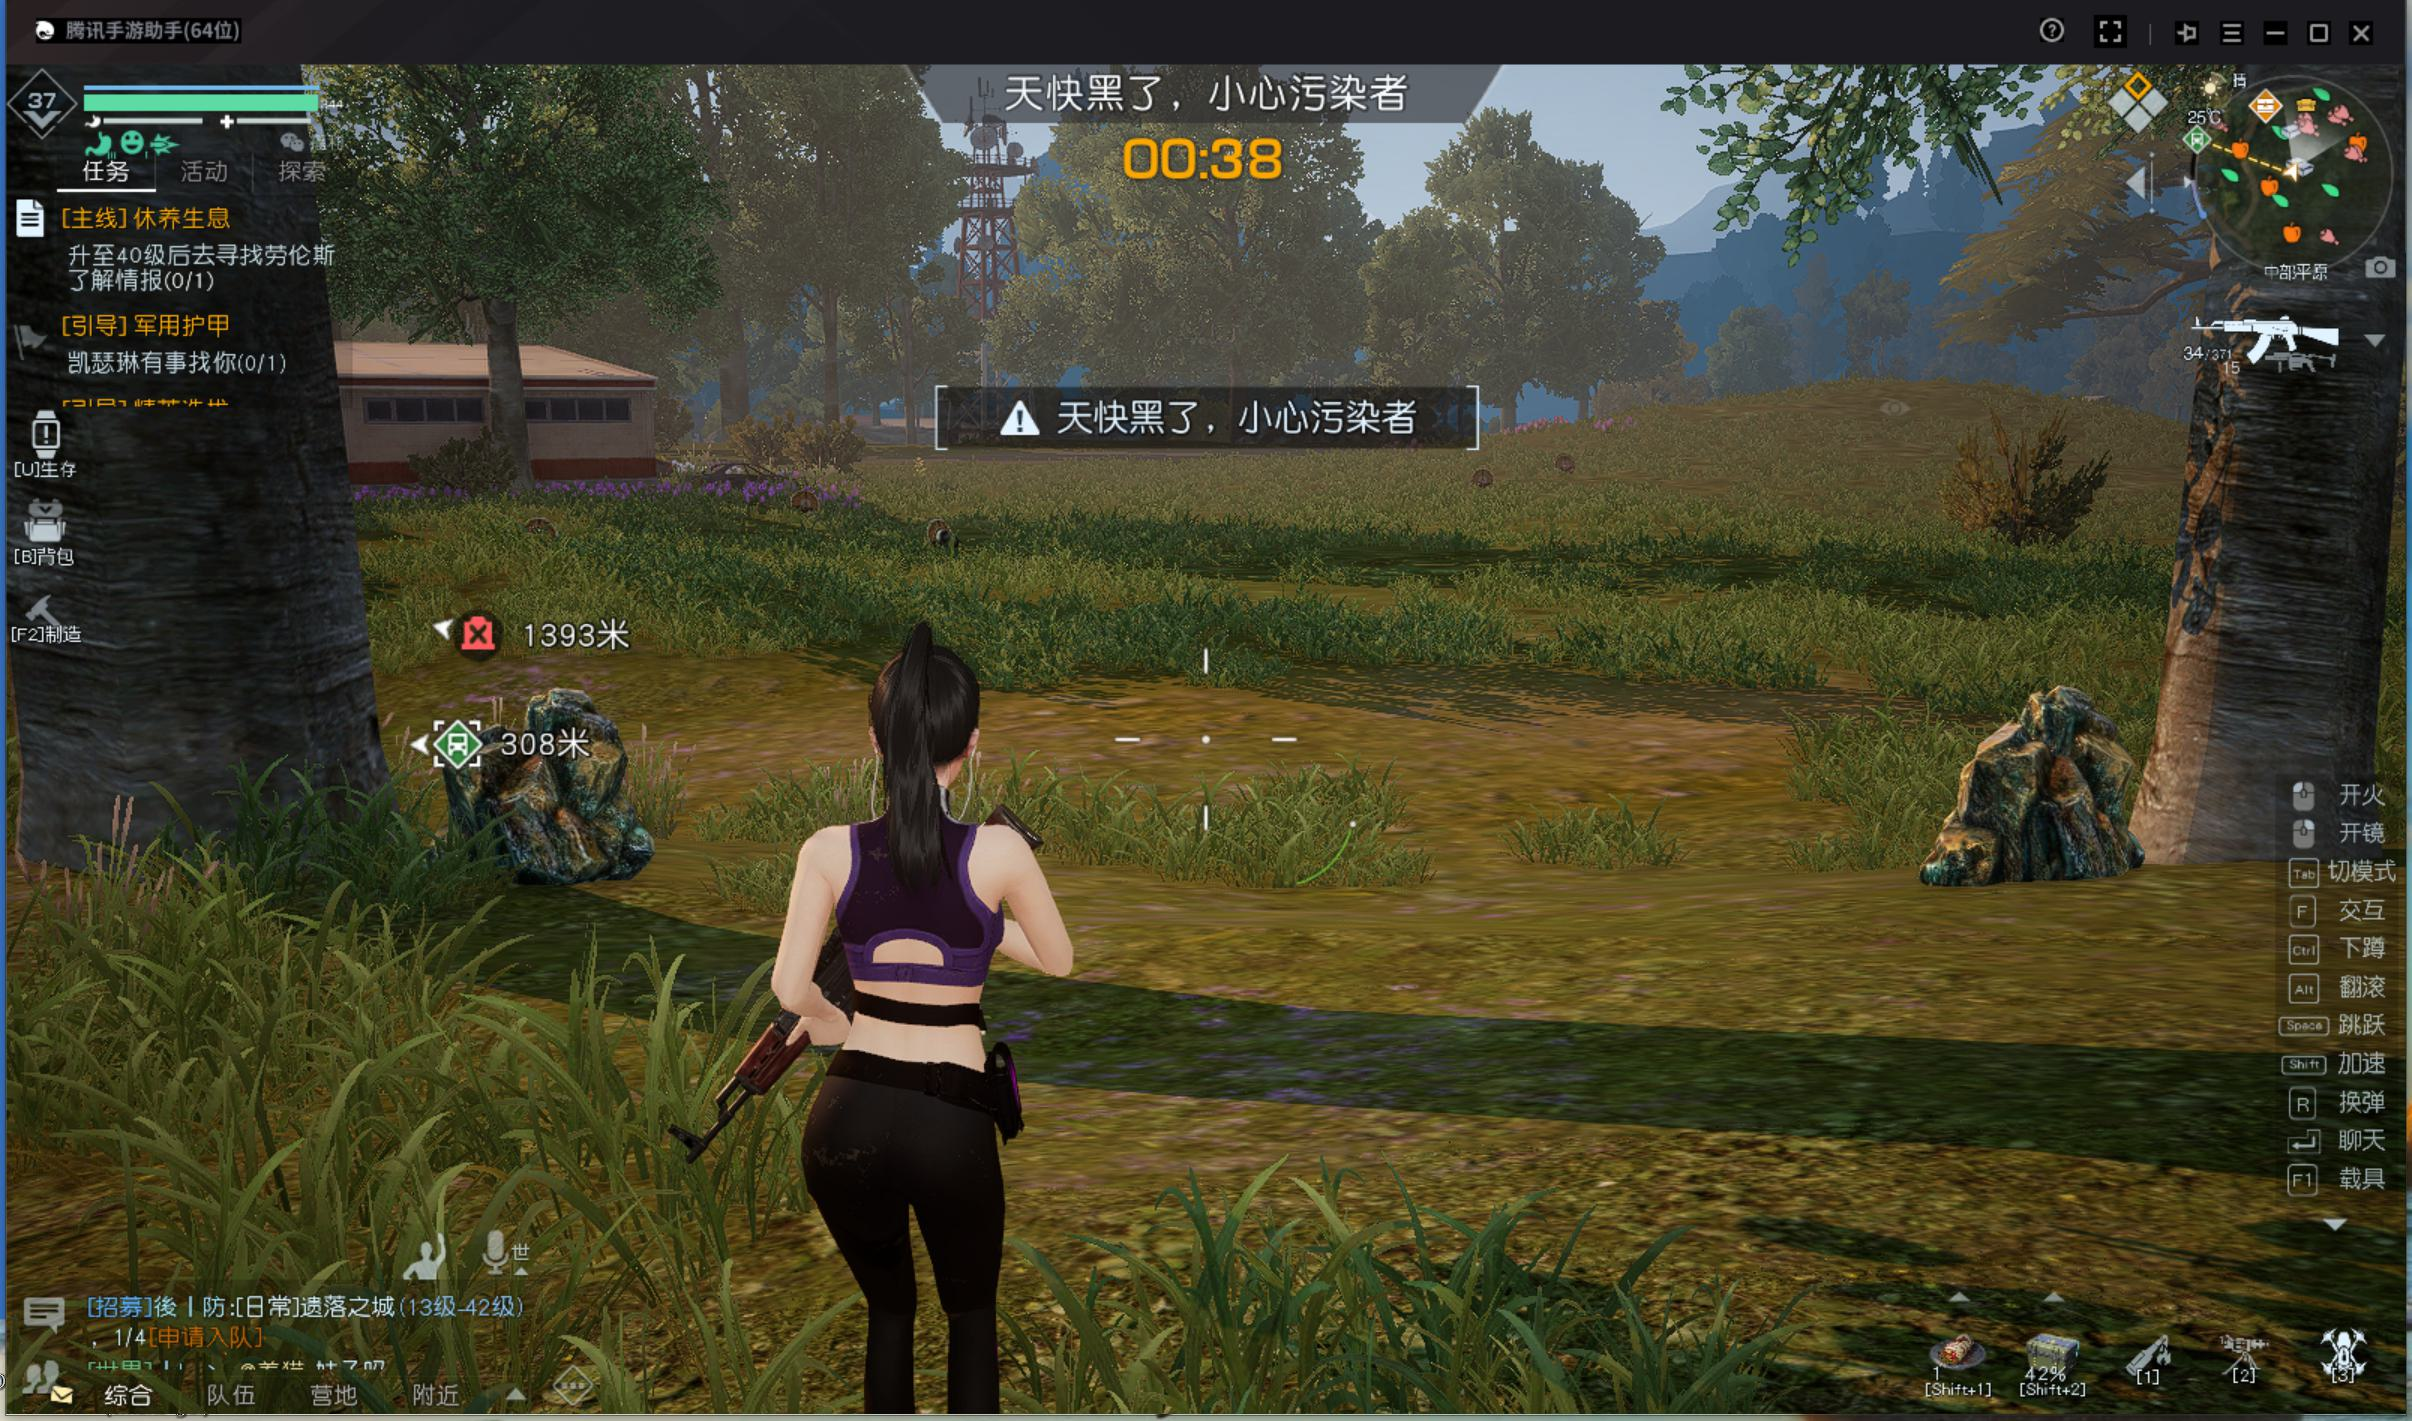stone: (394, 663, 666, 890), (1910, 656, 2158, 902)
